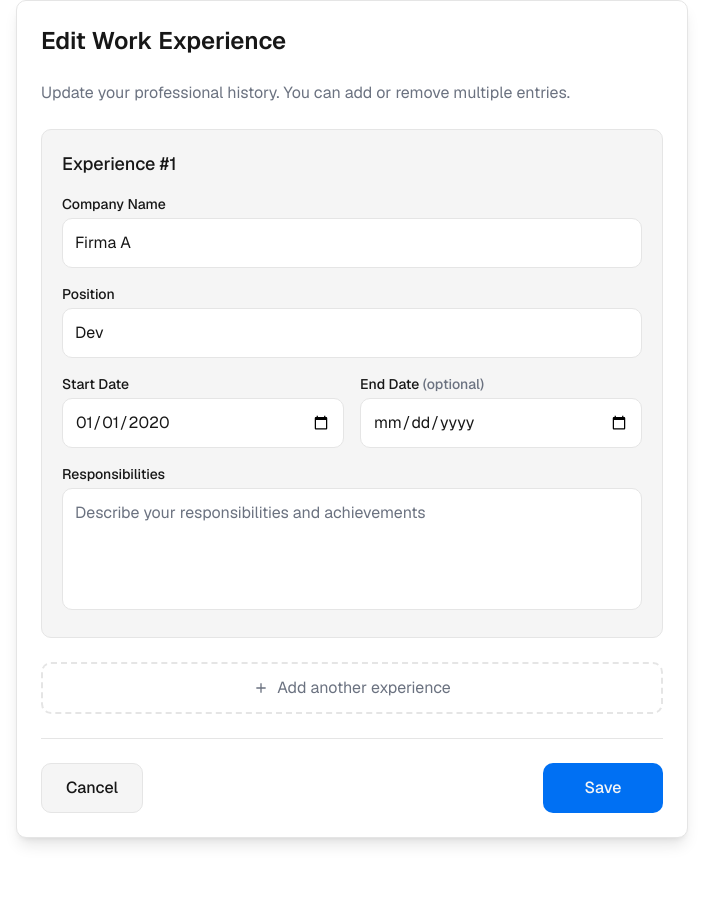
Test: EditWorkExperienceForm Component › Operacje na liście wpisów (FieldArray) › powinien umożliwić dodanie nowego doświadczenia zawodowego
Click the button "Add another experience".
click(352, 688)  # box x1=41 y1=662 x2=663 y2=714
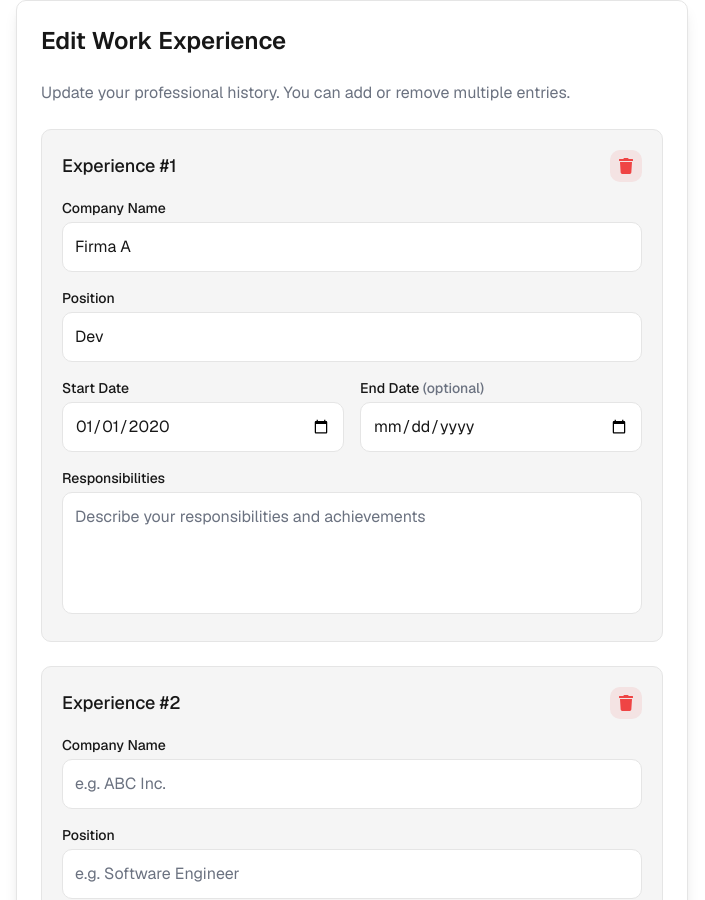
Expected: the heading "Experience #1" is shown, x1=62 y1=152 x2=176 y2=180
Result: the heading "Experience #2" is shown at x1=62 y1=689 x2=180 y2=717
Result: the 2nd field with placeholder "e.g. ABC Inc." is empty at x1=62 y1=759 x2=642 y2=809
